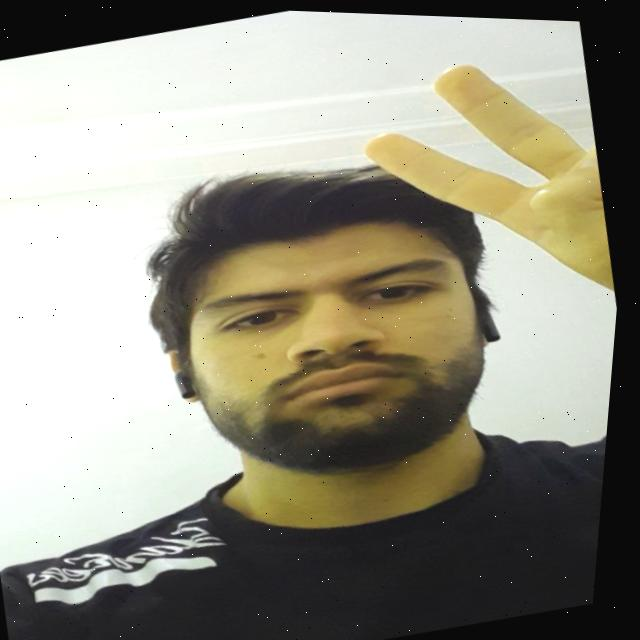Head: (114, 119, 548, 511)
Two: (346, 32, 639, 356)
